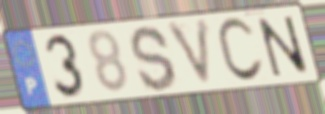3: (42, 32, 88, 102)
8: (85, 28, 134, 98)
C: (214, 15, 266, 86)
N: (254, 14, 313, 79)
S: (128, 23, 179, 94)
V: (163, 15, 215, 91)
